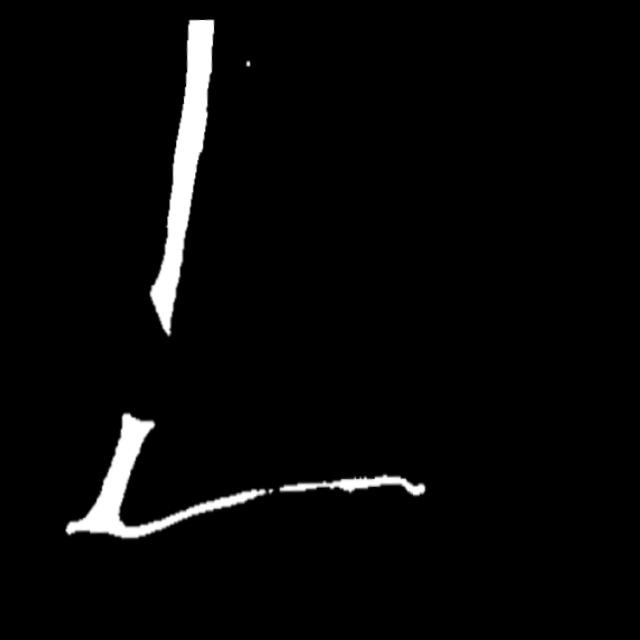inf: (263, 472, 302, 502)
